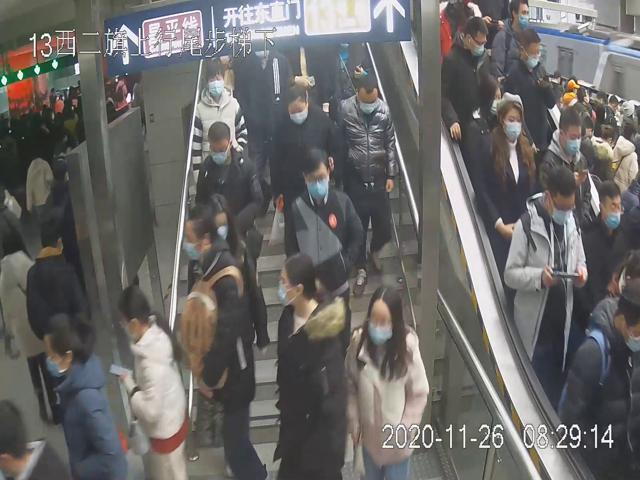person: (179, 205, 269, 480), (503, 165, 590, 394), (340, 282, 430, 480), (275, 251, 349, 480), (185, 188, 271, 364), (191, 115, 264, 298), (281, 142, 364, 302), (339, 74, 399, 278), (477, 88, 538, 265), (266, 83, 341, 226), (437, 16, 495, 147), (187, 60, 248, 183), (462, 71, 509, 188)
